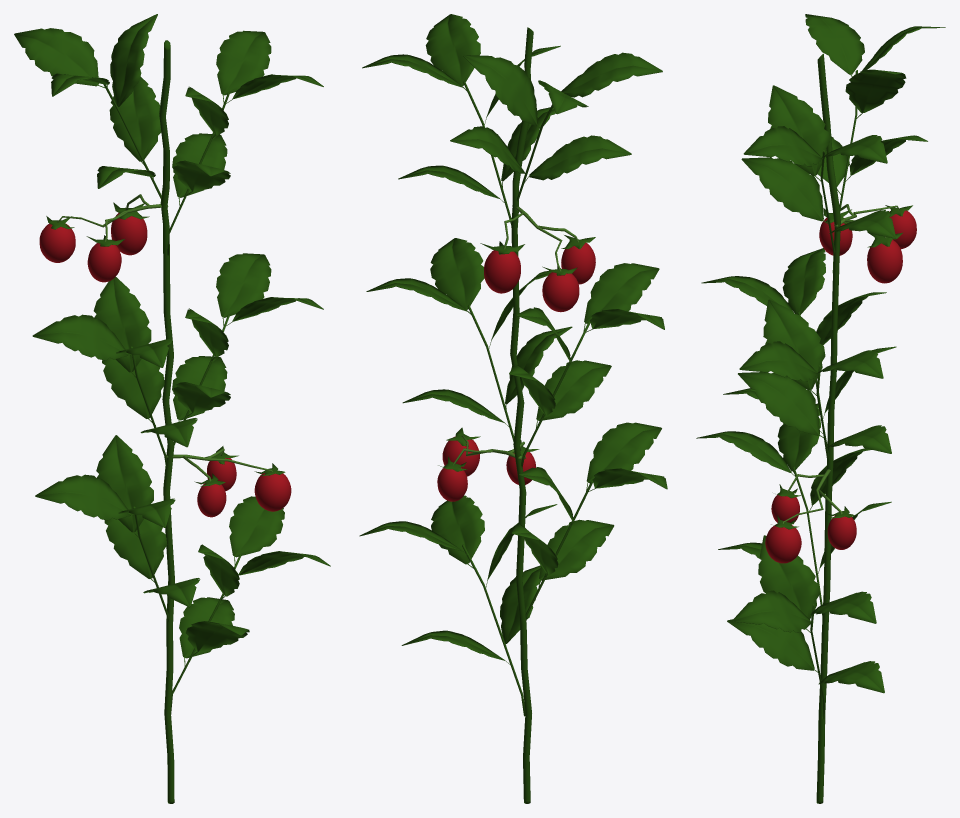
The model's file is TomateMaduro.fbx.
3 views of the same model, side by side, from view 1: azimuth 30°, elevation 25°; view 2: azimuth 150°, elevation 25°; view 3: azimuth 270°, elevation 25° (orthographic). The views are drawn at different scales.
Parts seen in each view (by area): view 1: TomateMaduro; view 2: TomateMaduro; view 3: TomateMaduro.
Part boxes in pixels (x1,y1,x2,y2): TomateMaduro: (14, 14, 330, 803); TomateMaduro: (359, 14, 667, 803); TomateMaduro: (696, 14, 945, 803).
Bounding box in the file's own units: 52.38 × 140 × 42.19.
